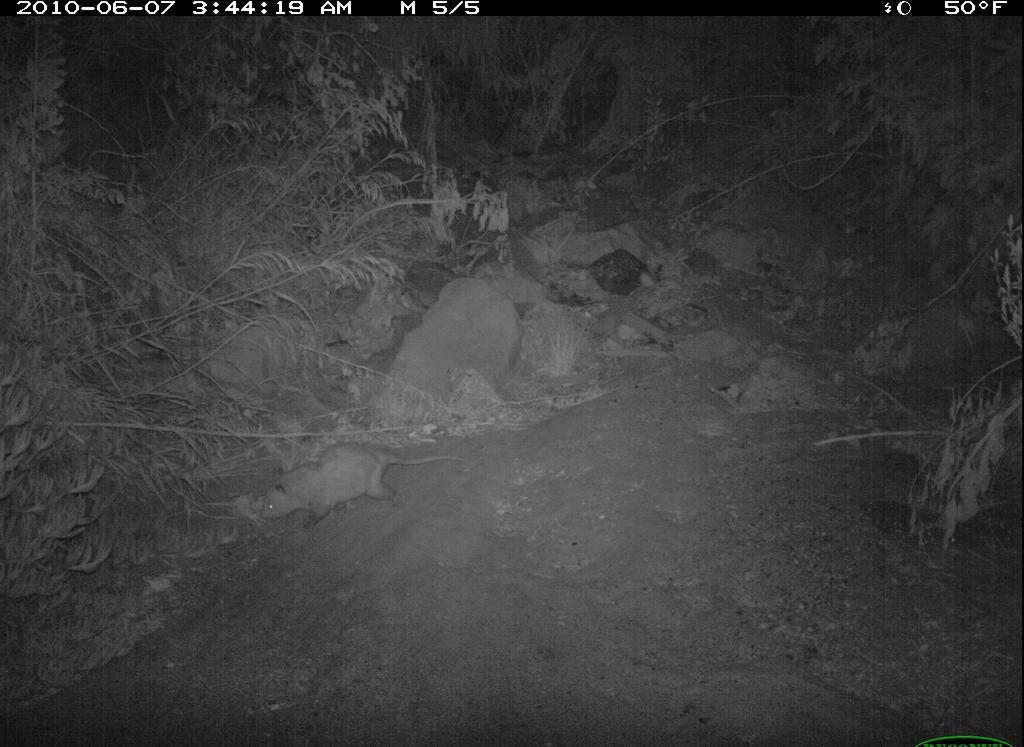opossum: (264, 434, 463, 527)
